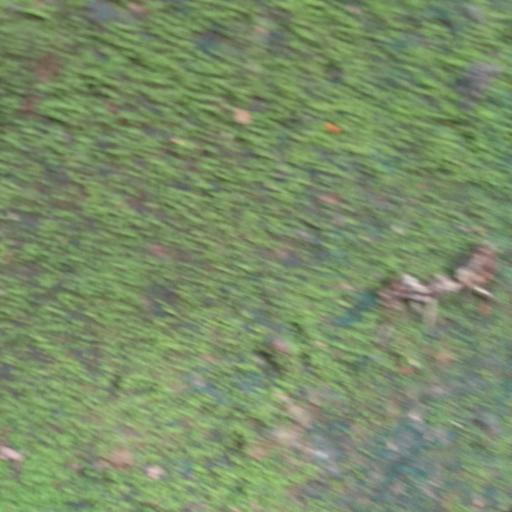algae: (0, 1, 503, 499)
